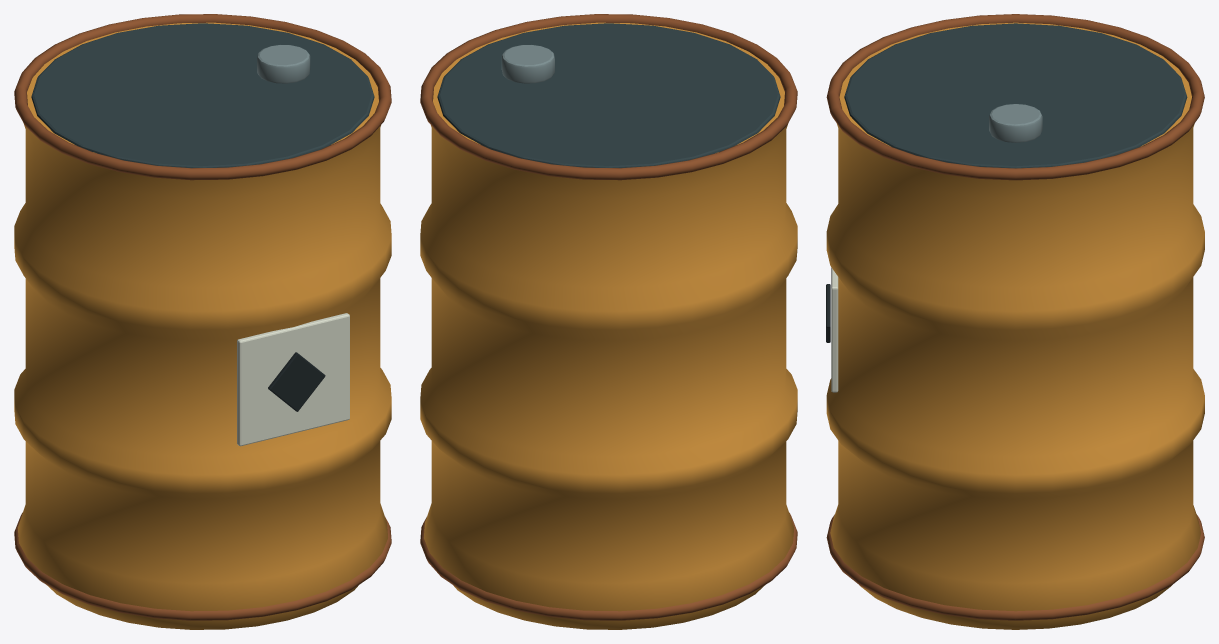
The model's file is SM_Drum_Oil.fbx.
3 renders of one model, left to right at view 1: azimuth 30°, elevation 25°; view 2: azimuth 150°, elevation 25°; view 3: azimuth 270°, elevation 25°, orthographic.
Visible parts, largest first — view 1: SM_Drum_Oil; view 2: SM_Drum_Oil; view 3: SM_Drum_Oil.
Part boxes in pixels (x1=…): SM_Drum_Oil: x1=14, y1=14, x2=391, y2=629; SM_Drum_Oil: x1=420, y1=14, x2=797, y2=629; SM_Drum_Oil: x1=826, y1=14, x2=1204, y2=629.
Size of what is drawn, in the model's own units: 0.65 by 0.651 by 0.9175.
